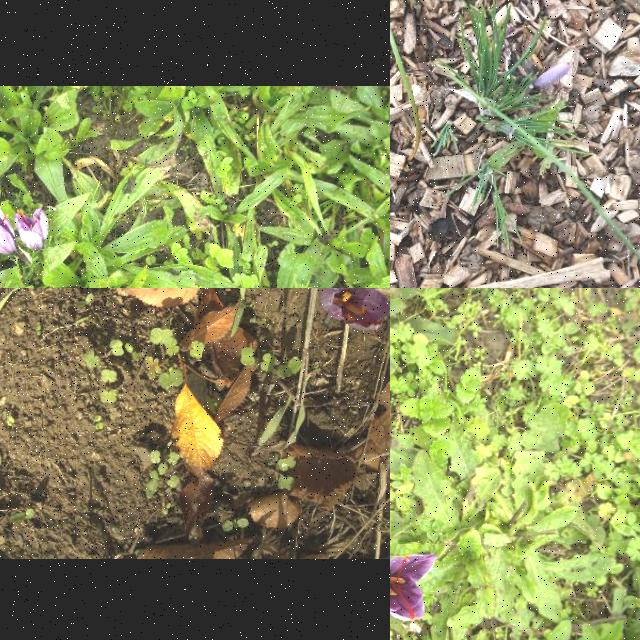flower: (390, 553, 439, 622), (319, 288, 390, 331), (17, 209, 51, 251), (532, 62, 572, 96), (0, 198, 17, 256)
